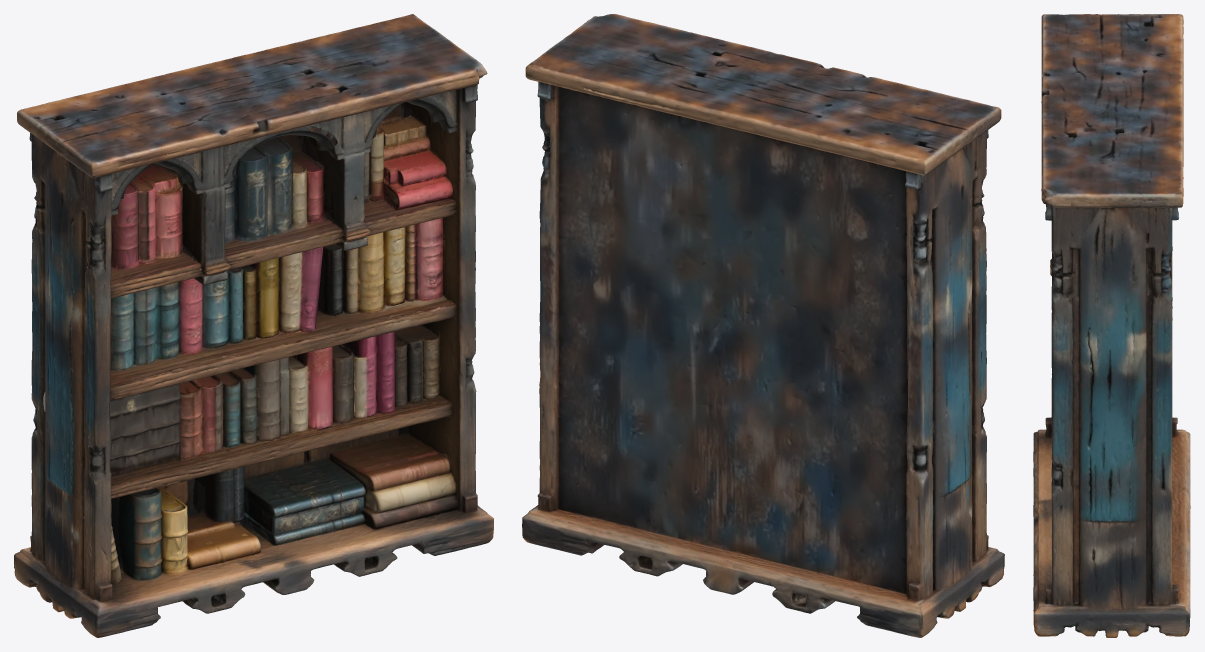
The model's file is lib_bookshelf.hd.glb.
3 renders of one model, left to right at view 1: azimuth 30°, elevation 25°; view 2: azimuth 150°, elevation 25°; view 3: azimuth 270°, elevation 25°, orthographic. The views are drawn at different scales.
Size of the model in its own units: 1.68 by 1.9 by 0.6132.
1 material, 1 textured.
